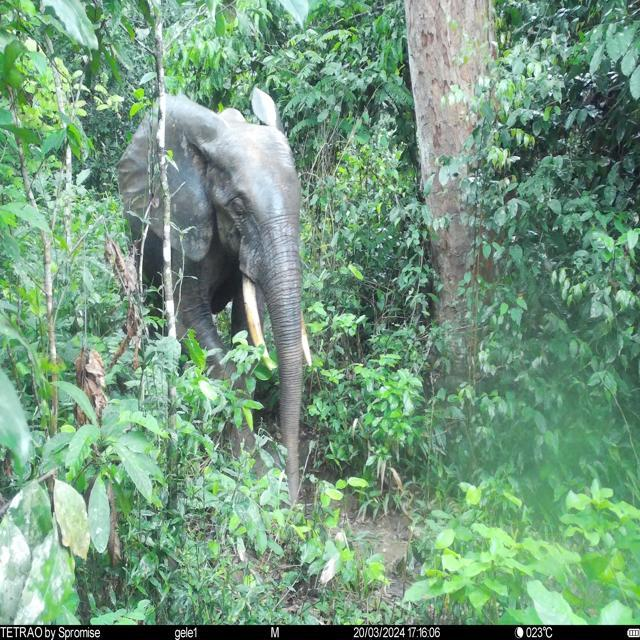ear: (116, 94, 230, 262), (246, 84, 286, 134)
elephant: (115, 84, 314, 508)
tusk: (238, 272, 276, 370), (299, 308, 314, 368)
